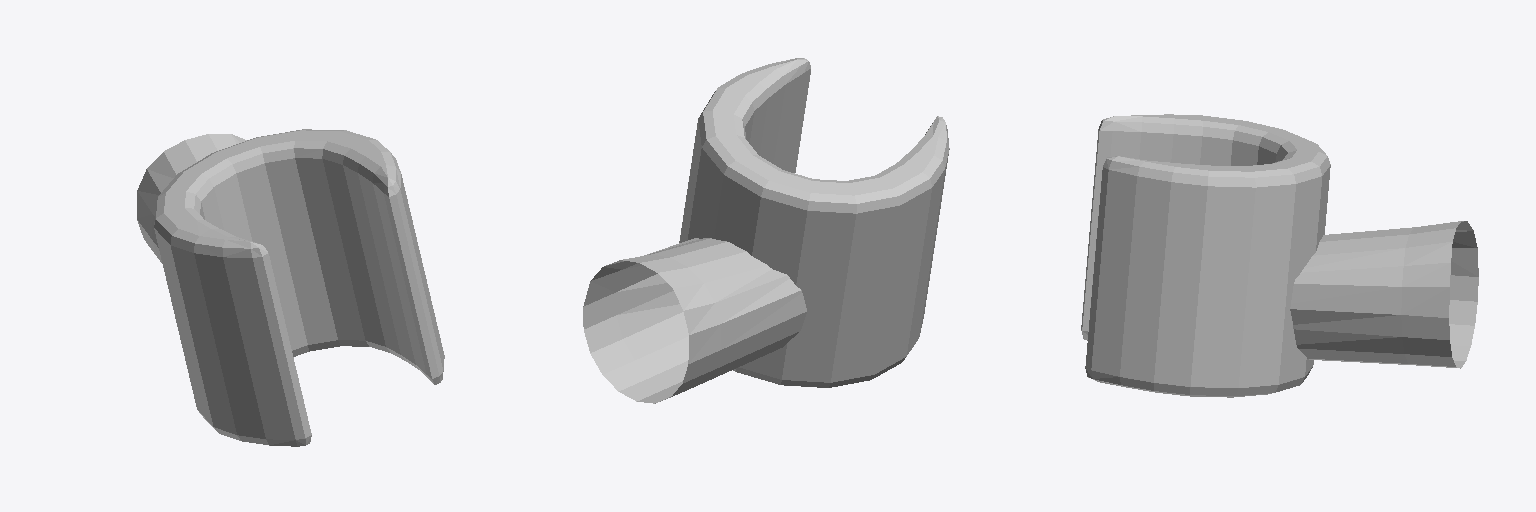
File: anakinGhostLightSaberRightHand.obj
The picture shows the model from 3 angles: view 1: azimuth 30°, elevation 25°; view 2: azimuth 150°, elevation 25°; view 3: azimuth 270°, elevation 25°; orthographic projection.
Parts seen in each view (by area): view 1: Mesh_0141_Mesh_0141Mesh.001; view 2: Mesh_0141_Mesh_0141Mesh.001; view 3: Mesh_0141_Mesh_0141Mesh.001.
Boxes of the visible parts, x1=… form: Mesh_0141_Mesh_0141Mesh.001: x1=137, y1=129, x2=444, y2=446; Mesh_0141_Mesh_0141Mesh.001: x1=583, y1=58, x2=949, y2=403; Mesh_0141_Mesh_0141Mesh.001: x1=1081, y1=114, x2=1478, y2=397.
Bounding box in the file's own units: 0.051 × 0.0487 × 0.0702.